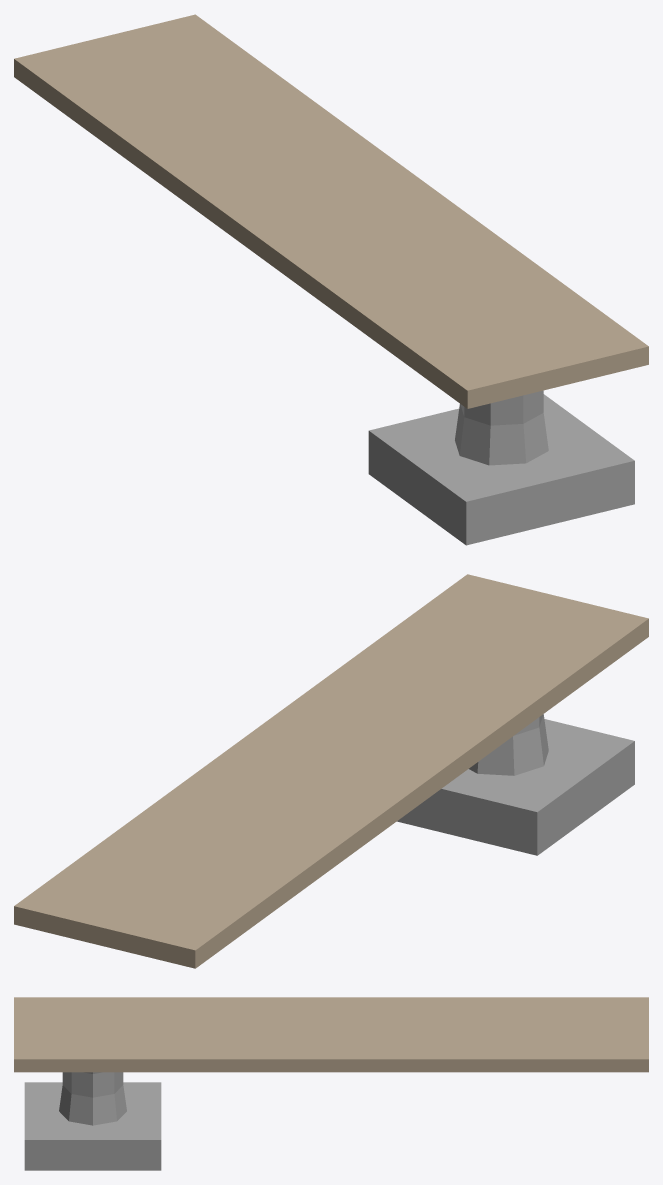
The model's file is Pool_Trap_Brown_vc.fbx.
The picture shows the model from 3 angles, top to bottom: view 1: azimuth 30°, elevation 25°; view 2: azimuth 150°, elevation 25°; view 3: azimuth 270°, elevation 25°; orthographic projection. The views are drawn at different scales.
Parts seen in each view (by area): view 1: Pool_Trap_Brown_vc; view 2: Pool_Trap_Brown_vc; view 3: Pool_Trap_Brown_vc.
Part boxes in pixels (left/top/right/bottom): Pool_Trap_Brown_vc: left=14, top=14, right=648, bottom=545; Pool_Trap_Brown_vc: left=14, top=574, right=648, bottom=968; Pool_Trap_Brown_vc: left=14, top=997, right=648, bottom=1170.
Size of the model in its own units: 104 by 88.35 by 448.
